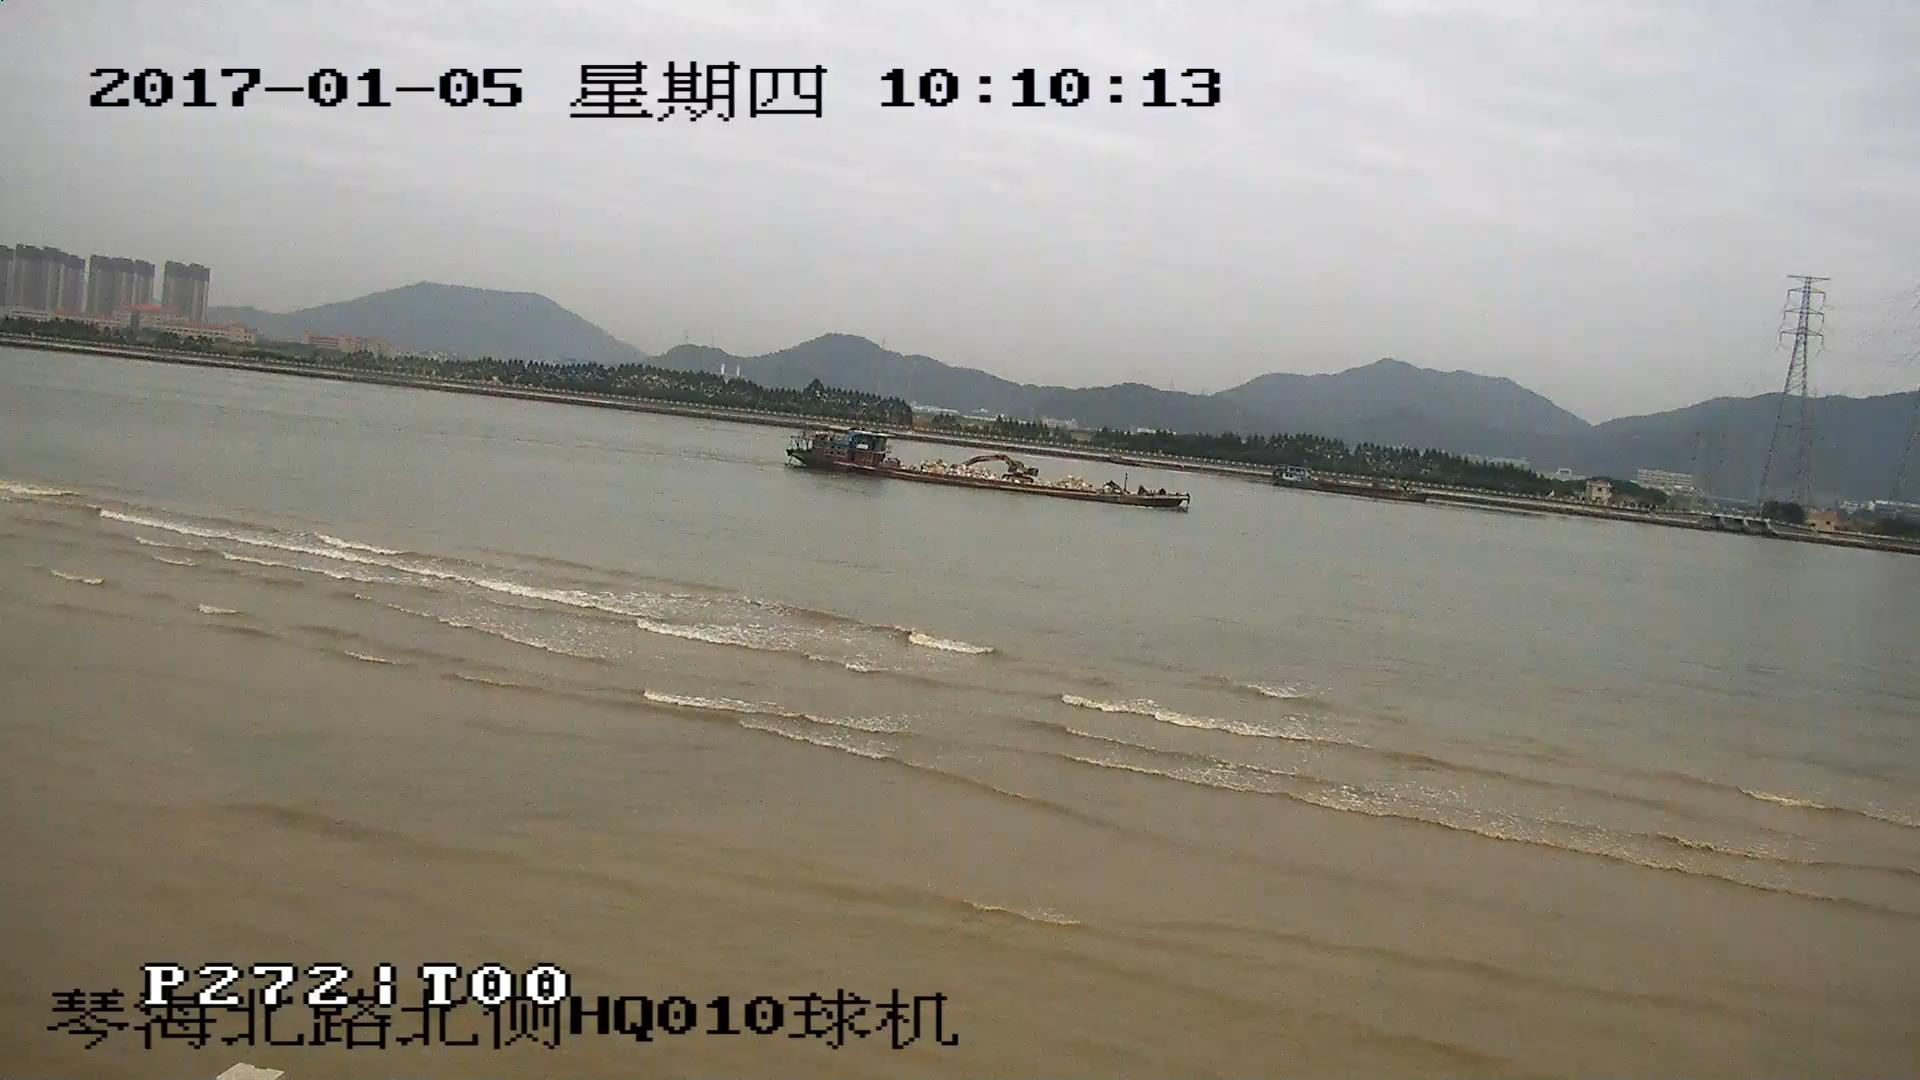bulk cargo carrier: (792, 419, 1197, 509)
